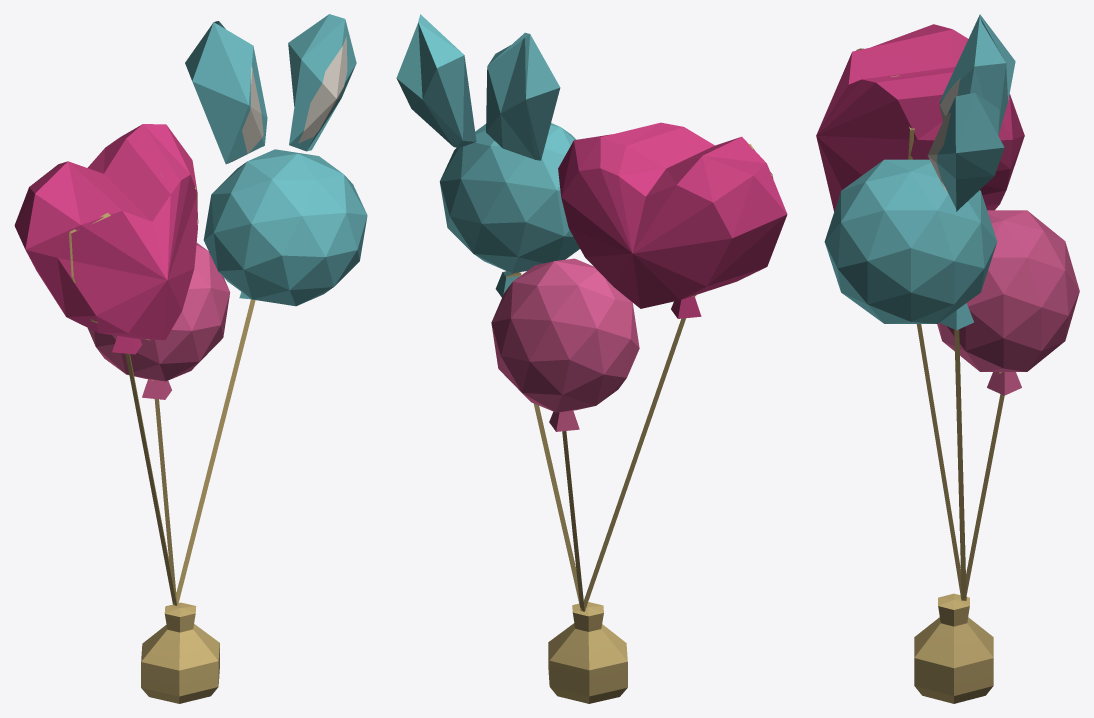
Rendered from balloons.glb.
The picture shows the model from 3 angles, left to right: view 1: azimuth 30°, elevation 25°; view 2: azimuth 150°, elevation 25°; view 3: azimuth 270°, elevation 25°; orthographic projection. The views are drawn at different scales.
Parts seen in each view (by area): view 1: swing_mesh, root_mesh; view 2: swing_mesh, root_mesh; view 3: swing_mesh, root_mesh.
Part boxes in pixels (x1,y1,x2,y2): swing_mesh: [14, 14, 367, 605]; root_mesh: [141, 602, 219, 703]; swing_mesh: [396, 14, 787, 611]; root_mesh: [548, 602, 627, 703]; swing_mesh: [816, 14, 1079, 600]; root_mesh: [914, 593, 993, 703].
Size of the model in its own units: 2 by 3.5 by 1.2.
